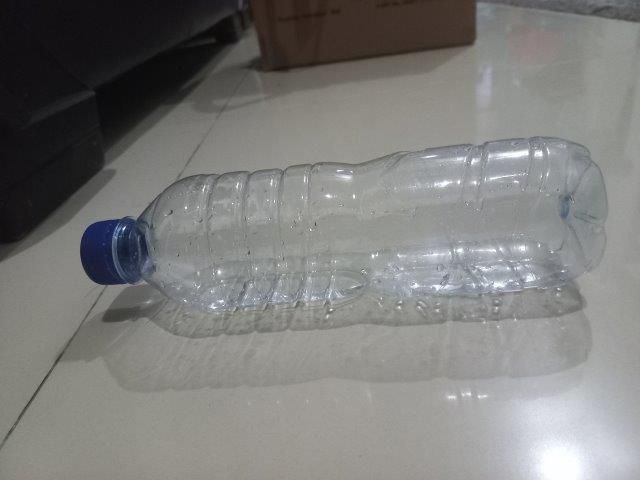botolplastik: (80, 135, 610, 302)
